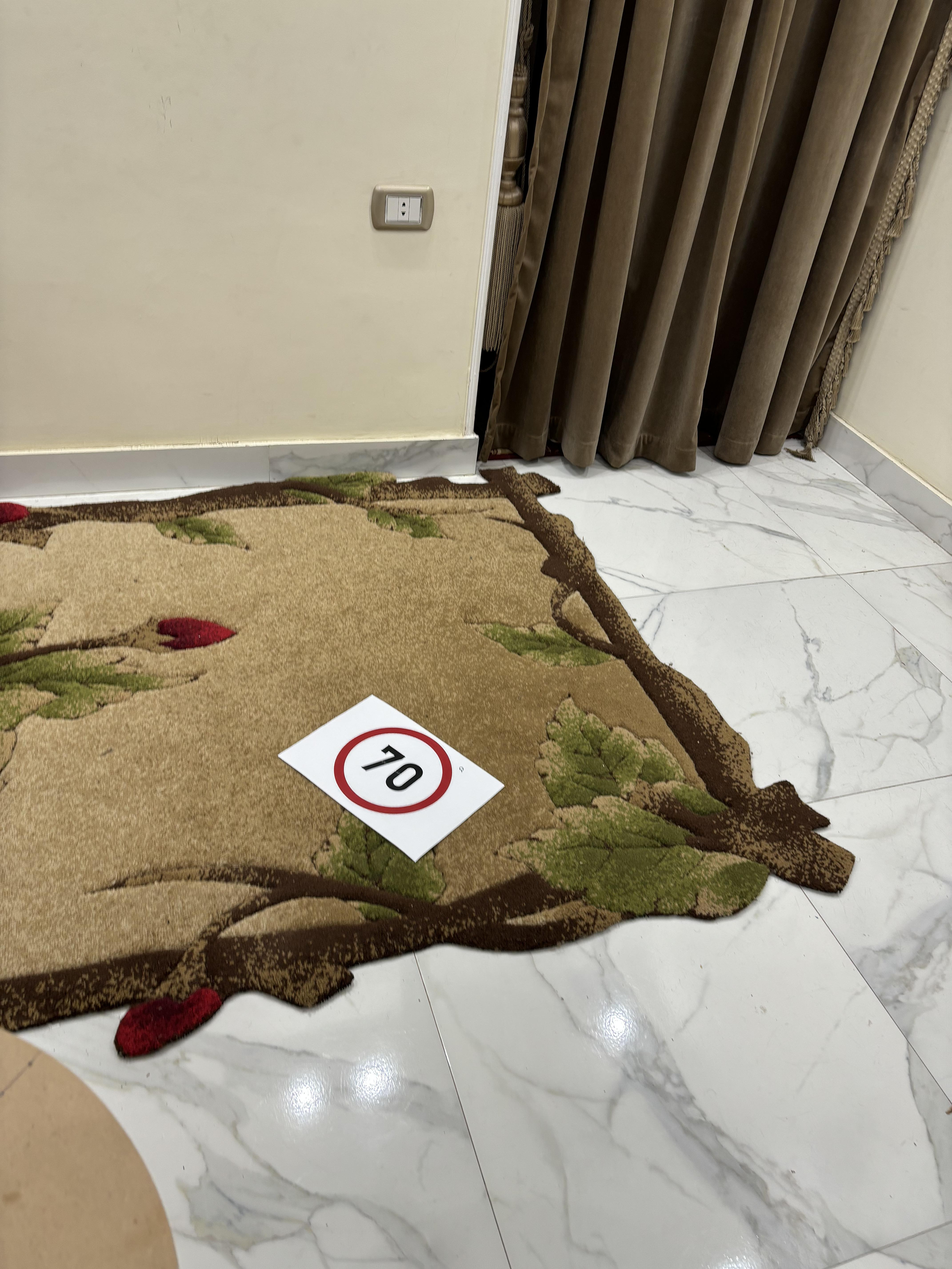70-Speed: (333, 723, 455, 817)
